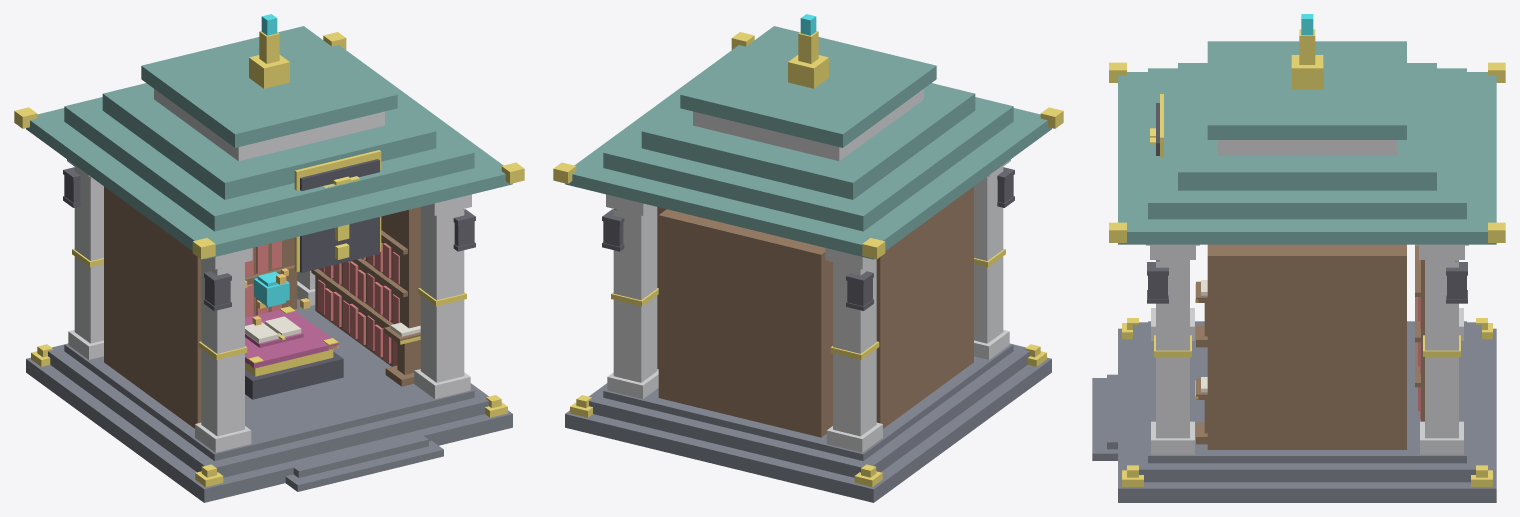
File: gdg_faq.glb
3 views of the same model, side by side, from view 1: azimuth 30°, elevation 25°; view 2: azimuth 150°, elevation 25°; view 3: azimuth 270°, elevation 25° (orthographic). The views are drawn at different scales.
Visible parts, largest first — view 1: pavilion_roof, base_plinth, bookshelf_wood, pavilion_pillar, gold_trim, book_spines, altar_stone, enchanted_book, lantern_iron, floating_crystal, book_pages, question_mark; view 2: pavilion_roof, bookshelf_wood, base_plinth, pavilion_pillar, gold_trim, lantern_iron; view 3: pavilion_roof, bookshelf_wood, base_plinth, pavilion_pillar, gold_trim, lantern_iron.
Boxes of the visible parts, <box> form: pavilion_roof: <box>26,26,512,259</box>; base_plinth: <box>26,298,512,502</box>; bookshelf_wood: <box>104,186,420,428</box>; pavilion_pillar: <box>67,89,471,452</box>; gold_trim: <box>14,31,524,486</box>; book_spines: <box>245,241,399,365</box>; altar_stone: <box>245,159,379,399</box>; enchanted_book: <box>245,309,338,368</box>; lantern_iron: <box>63,167,475,310</box>; floating_crystal: <box>254,14,289,307</box>; book_pages: <box>245,316,420,343</box>; question_mark: <box>323,176,359,259</box>; pavilion_roof: <box>565,26,1051,259</box>; bookshelf_wood: <box>657,186,973,437</box>; base_plinth: <box>565,343,1051,502</box>; pavilion_pillar: <box>606,89,1010,452</box>; gold_trim: <box>553,31,1063,486</box>; lantern_iron: <box>602,167,1014,310</box>; pavilion_roof: <box>1118,41,1496,244</box>; bookshelf_wood: <box>1196,244,1424,449</box>; base_plinth: <box>1092,321,1496,502</box>; pavilion_pillar: <box>1146,140,1468,454</box>; gold_trim: <box>1109,29,1505,486</box>; lantern_iron: <box>1147,260,1467,303</box>.
Bounding box in the file's own units: 3.98 × 4.5 × 4.15.
